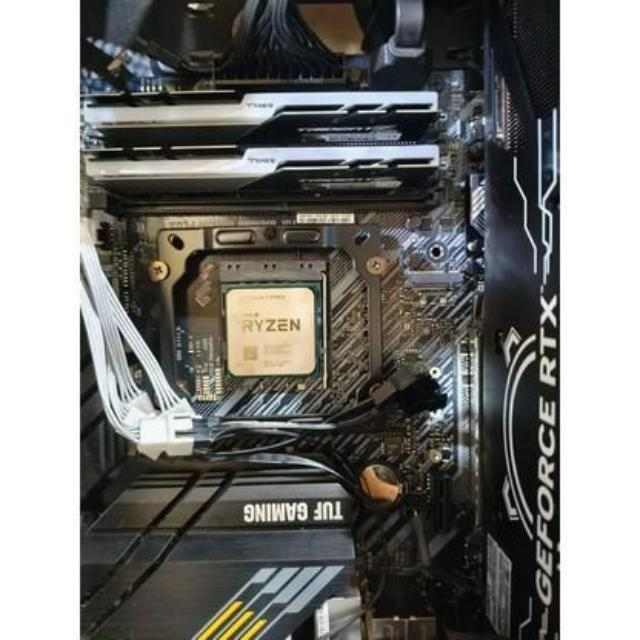CPU: (224, 289, 318, 377)
